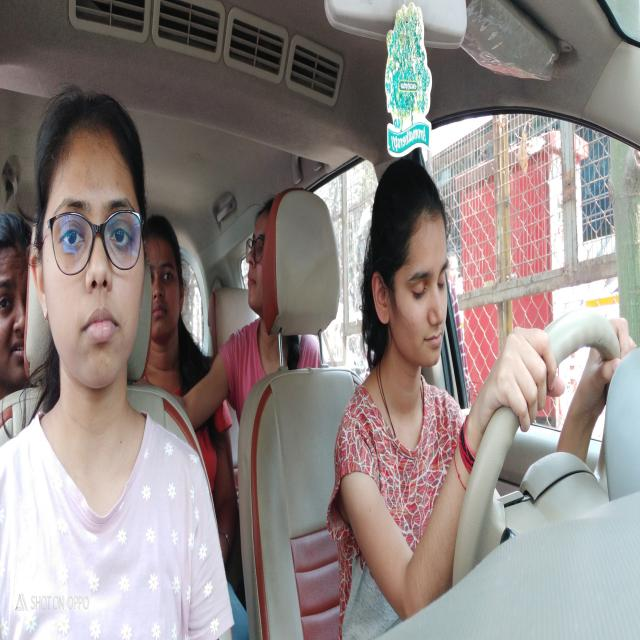drowsy: (373, 175, 464, 383)
person: (27, 78, 153, 404), (144, 209, 189, 353), (2, 194, 30, 400), (242, 182, 275, 320)
